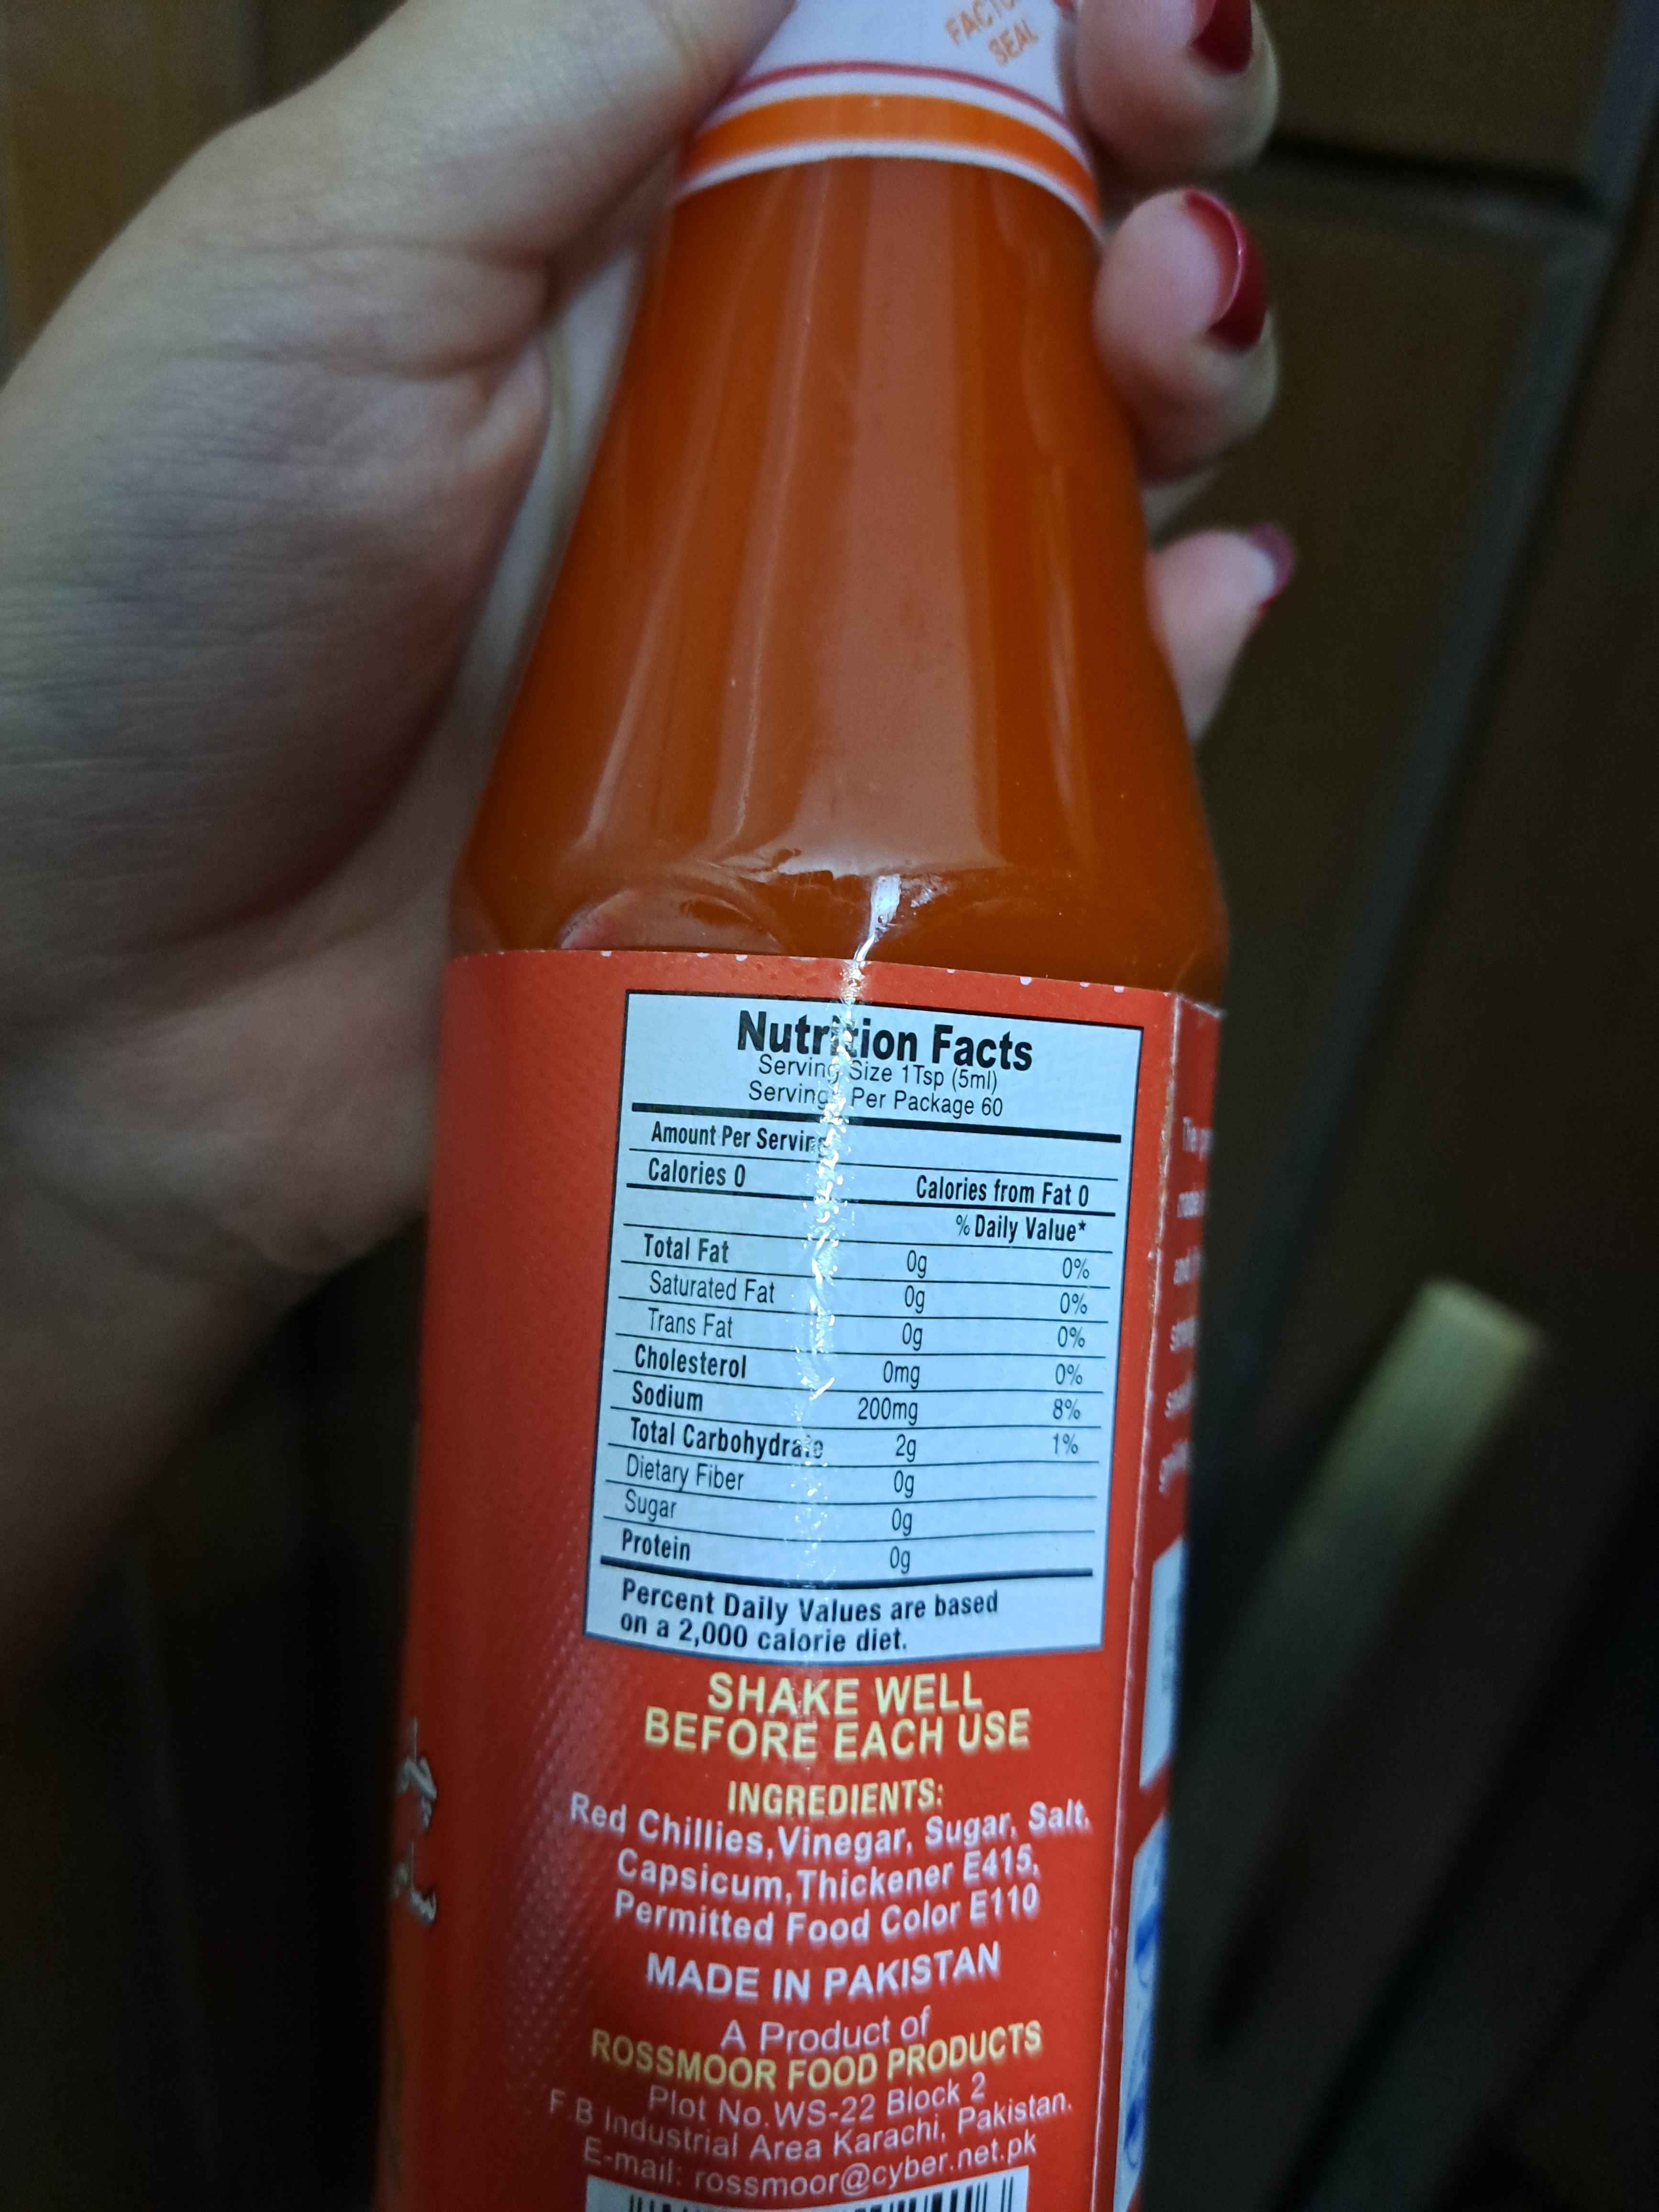table: (605, 988, 1108, 1667)
